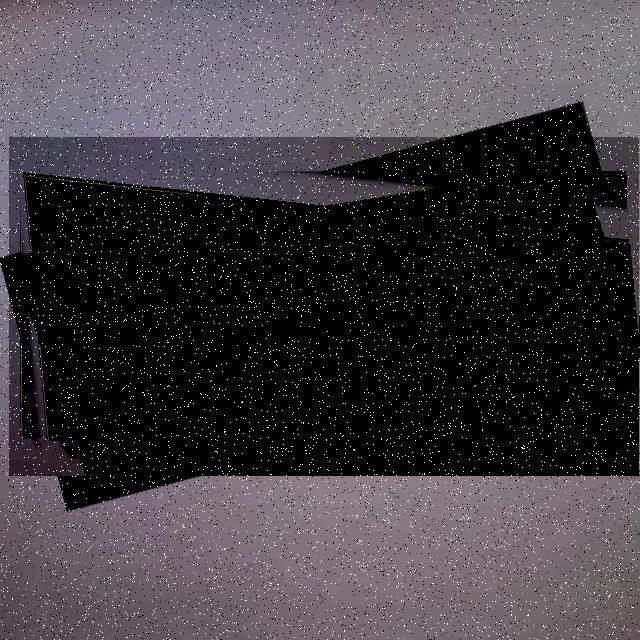lima puluh ribu rupiah: (9, 137, 639, 476)
